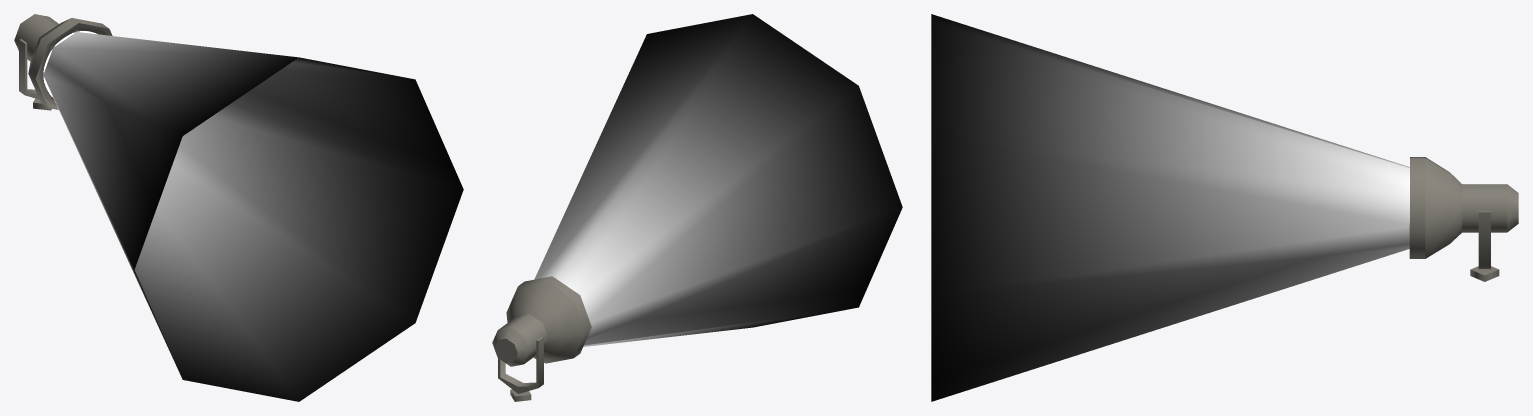
File: prop-spot-light.glb
The picture shows the model from 3 angles, left to right: view 1: azimuth 30°, elevation 25°; view 2: azimuth 150°, elevation 25°; view 3: azimuth 270°, elevation 25°; orthographic projection. The views are drawn at different scales.
Visible parts, largest first — view 1: fx-spot-light-shaft, prop-spot-light, prop-spot-light-base; view 2: fx-spot-light-shaft, prop-spot-light, prop-spot-light-base; view 3: fx-spot-light-shaft, prop-spot-light, prop-spot-light-base.
Boxes of the visible parts, x1,y1,x2,y2 form: fx-spot-light-shaft: [43, 32, 463, 401]; prop-spot-light: [14, 14, 112, 109]; prop-spot-light-base: [19, 39, 51, 110]; fx-spot-light-shaft: [534, 14, 902, 346]; prop-spot-light: [492, 276, 591, 366]; prop-spot-light-base: [498, 337, 543, 401]; fx-spot-light-shaft: [931, 14, 1409, 401]; prop-spot-light: [1409, 157, 1518, 258]; prop-spot-light-base: [1470, 211, 1499, 281].
Size of the model in its own units: 2.12 by 2.12 by 3.01.
2 materials, 2 textured.
